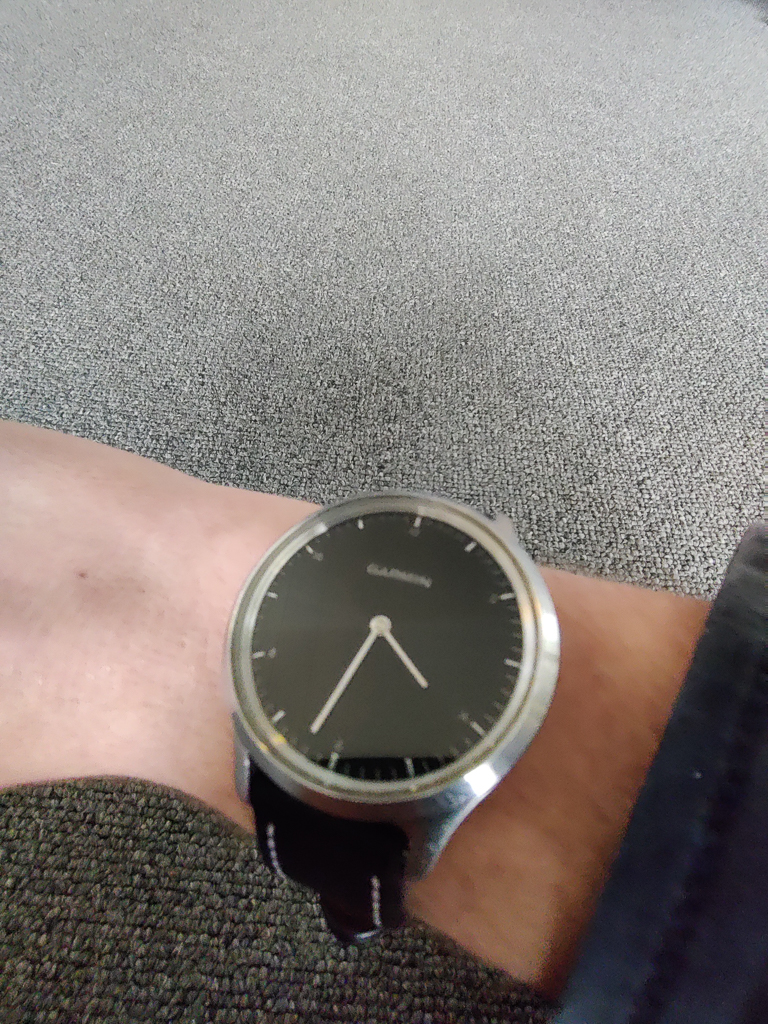Humanoid: (0, 408, 768, 1024)
